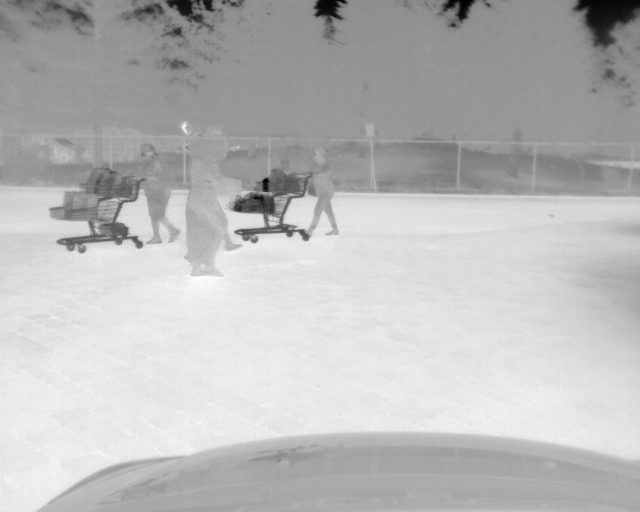people: (185, 134, 234, 278), (135, 143, 180, 245), (302, 146, 340, 239)
